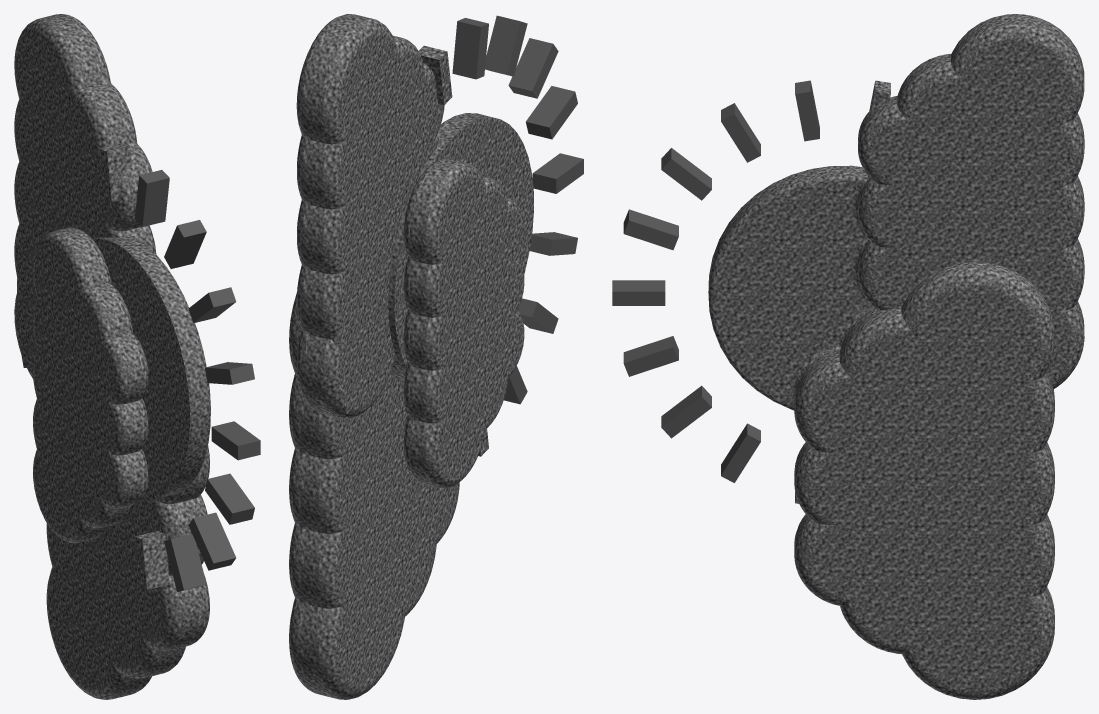
The model's file is Suncloud.glb.
The picture shows the model from 3 angles, left to right: view 1: azimuth 30°, elevation 25°; view 2: azimuth 150°, elevation 25°; view 3: azimuth 270°, elevation 25°; orthographic projection. The views are drawn at different scales.
Parts seen in each view (by area): view 1: Body1, Body4, Body9, Body10, Body8, Body5, Body6, Body7, Body11; view 2: Body1, Body10, Body7, Body5, Body11, Body6, Body8, Body4, Body9; view 3: Body1, Body11, Body8, Body6, Body4, Body7, Body5, Body9, Body10.
Boxes of the visible parts, x1,y1,x2,y2 form: Body1: (14,14,210,699); Body4: (188,512,236,570); Body9: (164,534,206,591); Body10: (134,170,169,226); Body8: (205,473,254,524); Body5: (164,220,206,268); Body6: (211,421,260,460); Body7: (188,287,236,323); Body11: (205,362,254,384); Body1: (289,14,533,699); Body10: (452,18,488,79); Body7: (508,38,558,98); Body5: (485,15,527,76); Body11: (526,86,577,139); Body6: (532,153,583,193); Body8: (529,232,577,255); Body4: (518,298,558,333); Body9: (504,366,527,404); Body1: (708,14,1084,699); Body11: (623,209,678,250); Body8: (623,336,678,376); Body6: (612,280,665,305); Body4: (661,385,711,438); Body7: (661,148,711,200); Body5: (721,103,760,162); Body9: (721,423,760,482); Body10: (795,80,819,141).
Bounding box in the file's own units: 2.21 × 13.85 × 8.91.
Materials: 9 (1 with a texture image).
